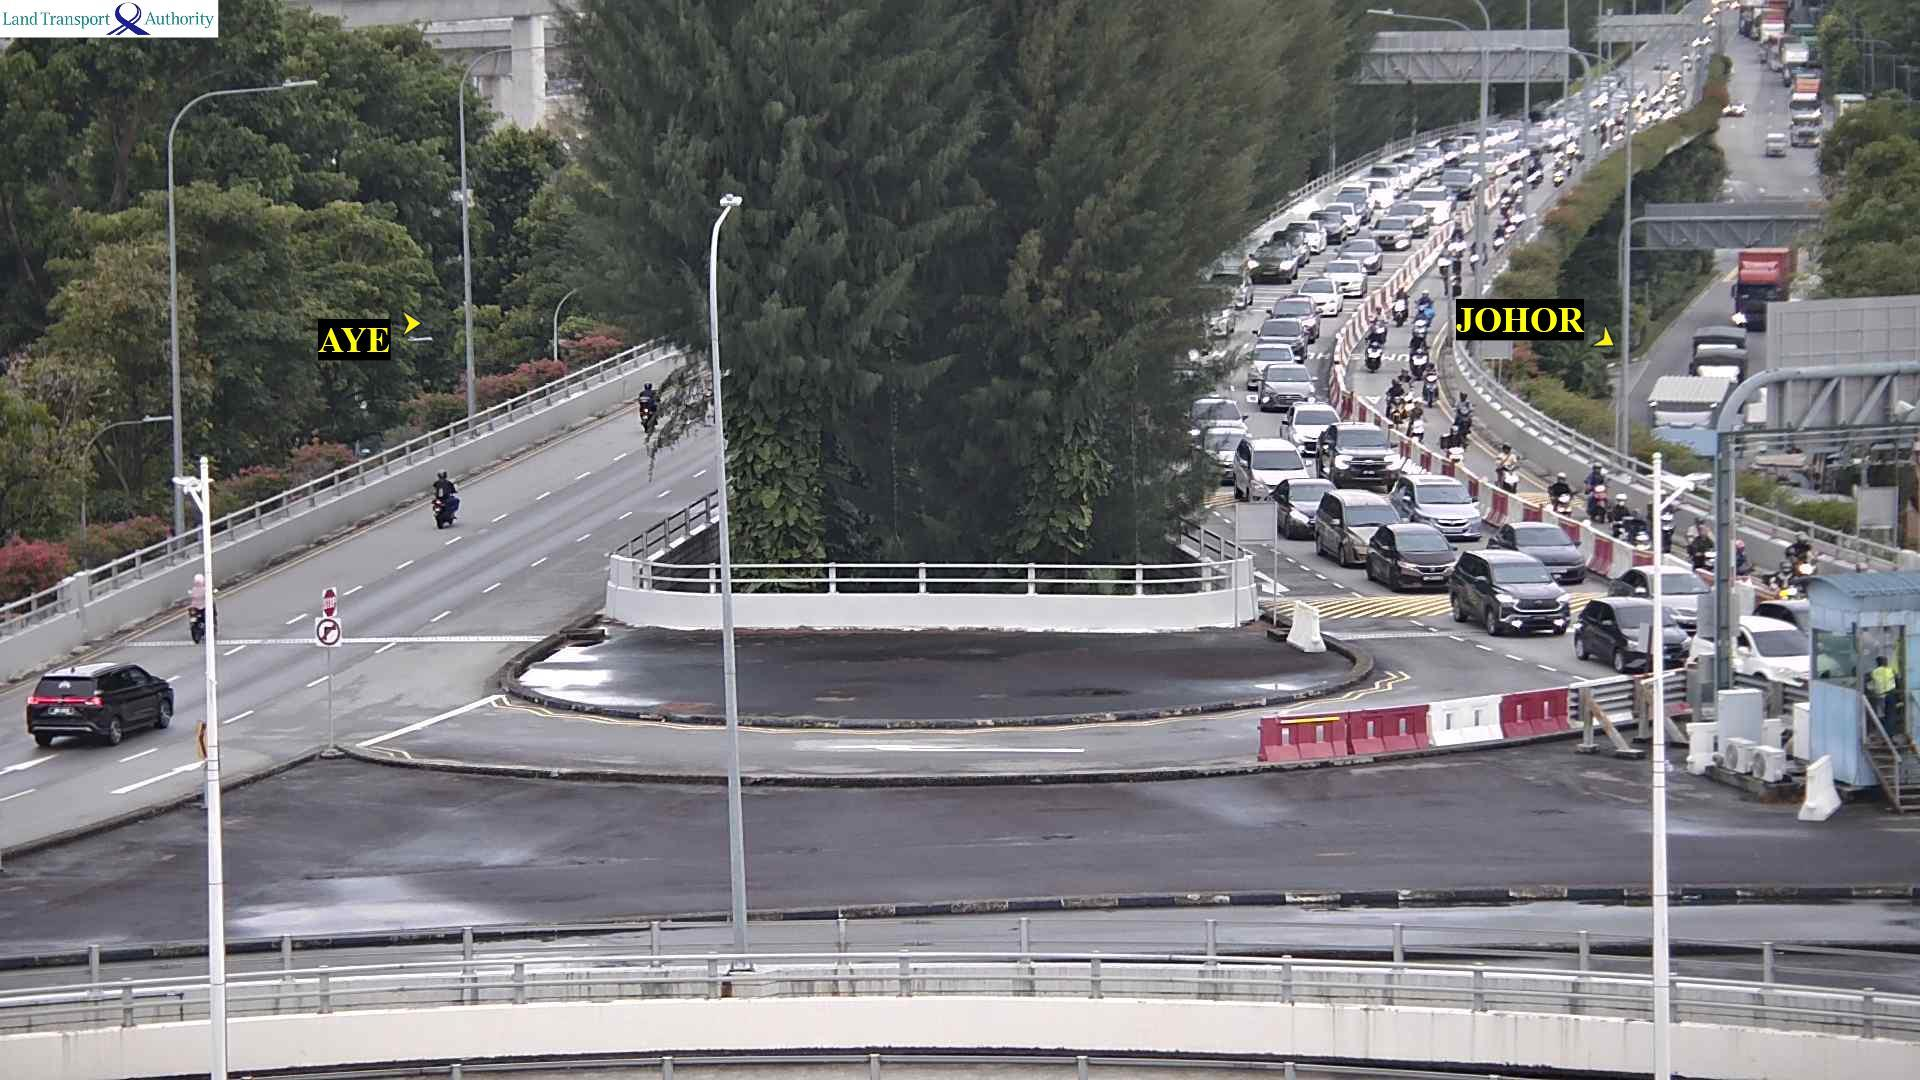vehicle-secondlink-johor: (1596, 572, 1801, 628), (1450, 556, 1586, 622), (1576, 597, 1704, 666), (1379, 480, 1539, 532), (1474, 525, 1628, 578), (1367, 524, 1473, 587), (1313, 427, 1409, 484), (1321, 507, 1425, 556), (1229, 446, 1317, 496), (1272, 482, 1344, 539), (1248, 366, 1320, 403), (1305, 263, 1377, 299), (1189, 400, 1260, 434), (1278, 407, 1340, 444), (1244, 348, 1309, 382), (1398, 188, 1466, 215), (1435, 172, 1490, 205), (1332, 241, 1389, 271), (1784, 537, 1818, 581), (1294, 281, 1347, 309), (1274, 224, 1331, 250), (1253, 320, 1313, 344), (1309, 211, 1361, 238), (1363, 167, 1417, 192), (1390, 379, 1421, 421), (1539, 471, 1570, 512), (1691, 538, 1723, 576), (1441, 422, 1471, 461), (1493, 456, 1524, 493), (1388, 205, 1425, 233), (1513, 165, 1540, 196), (1432, 145, 1467, 167), (1588, 461, 1602, 515), (1373, 222, 1406, 244), (1338, 195, 1371, 217), (1409, 335, 1430, 367), (1390, 288, 1409, 323), (1414, 289, 1434, 321), (1627, 511, 1647, 541), (1687, 513, 1708, 539), (1736, 540, 1752, 570), (1403, 153, 1429, 171), (1614, 492, 1626, 531), (1555, 151, 1571, 180), (1368, 310, 1385, 335), (1423, 367, 1436, 399), (1367, 333, 1379, 366), (1454, 393, 1470, 417), (1440, 240, 1454, 266), (1450, 221, 1462, 248), (1513, 195, 1524, 224), (1605, 120, 1622, 138), (1494, 220, 1505, 246), (1501, 188, 1512, 214), (1486, 129, 1497, 147)
vehicle-secondlink-singapore: (26, 665, 174, 741), (427, 474, 467, 530), (628, 382, 668, 423)
